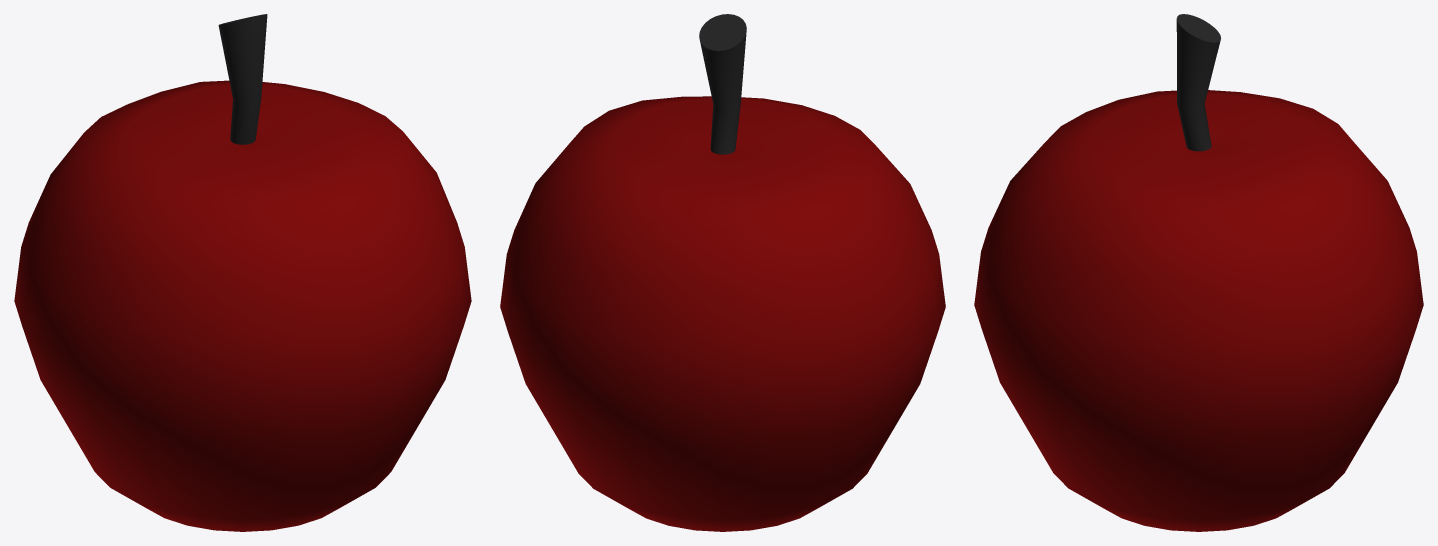
File: apple.fbx
3 views of the same model, side by side, from view 1: azimuth 30°, elevation 25°; view 2: azimuth 150°, elevation 25°; view 3: azimuth 270°, elevation 25° (orthographic). The views are drawn at different scales.
Parts seen in each view (by area): view 1: apple; view 2: apple; view 3: apple.
Part boxes in pixels (bbox=[...]): apple: bbox=[14, 14, 471, 531]; apple: bbox=[500, 14, 945, 531]; apple: bbox=[974, 14, 1423, 531].
Bounding box in the file's own units: 99.58 × 118 × 99.58.
